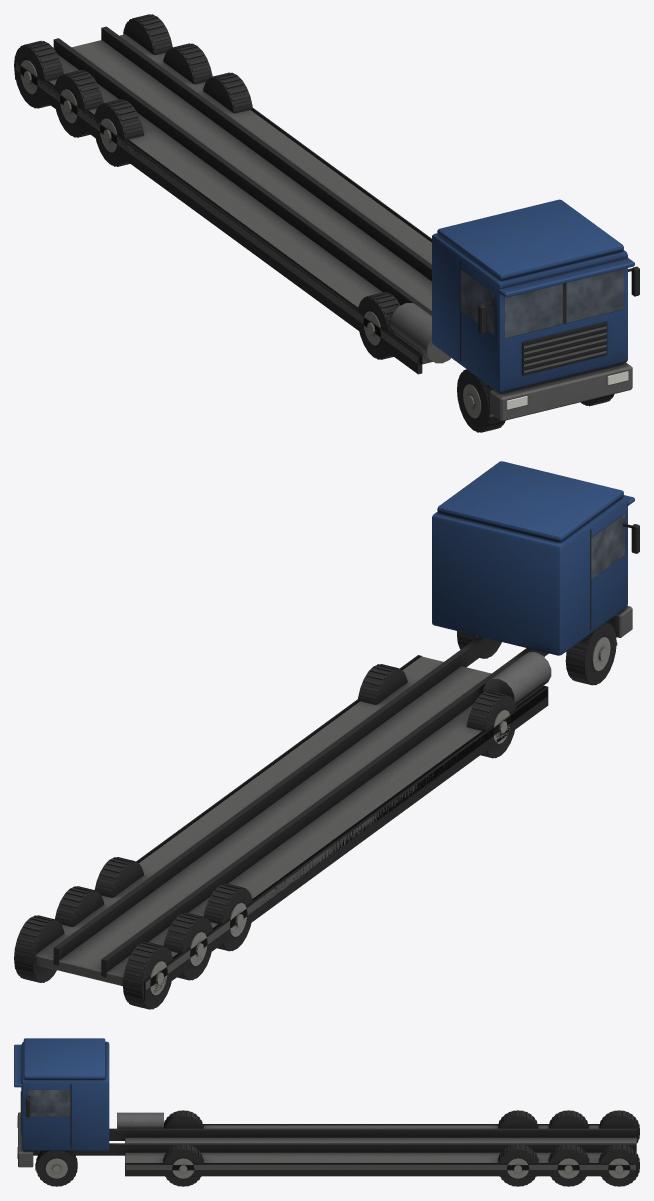
The model's file is truck_flat_blue.glb.
The picture shows the model from 3 angles, top to bottom: view 1: azimuth 30°, elevation 25°; view 2: azimuth 150°, elevation 25°; view 3: azimuth 270°, elevation 25°; orthographic projection. The views are drawn at different scales.
Visible parts, largest first — view 1: truck_flat_blue; view 2: truck_flat_blue; view 3: truck_flat_blue.
Part boxes in pixels (left/top/right/bottom): truck_flat_blue: left=14, top=14, right=639, bottom=432; truck_flat_blue: left=14, top=461, right=639, bottom=1009; truck_flat_blue: left=14, top=1038, right=639, bottom=1186.
Size of the model in its own units: 3.01 by 3.13 by 16.08.
Materials: 1 (1 with a texture image).
